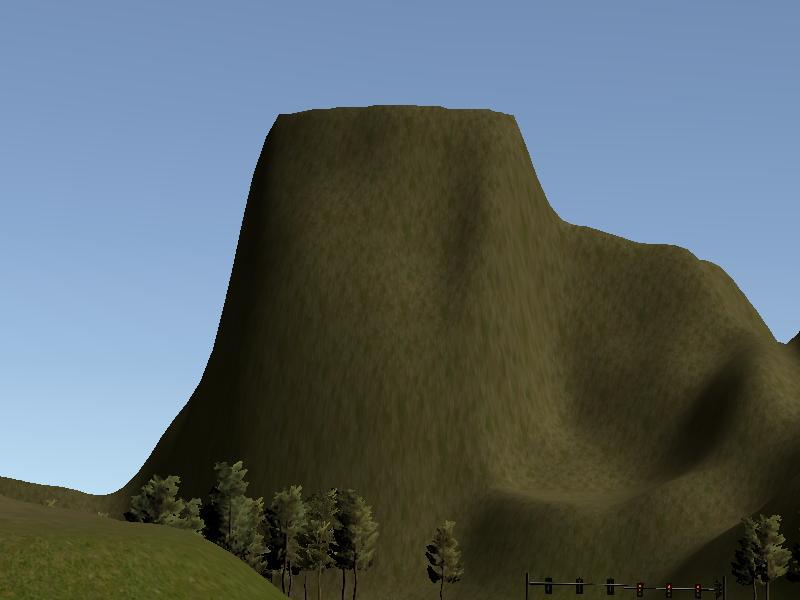Red: (664, 580, 673, 599), (693, 581, 701, 599), (635, 582, 643, 599)
